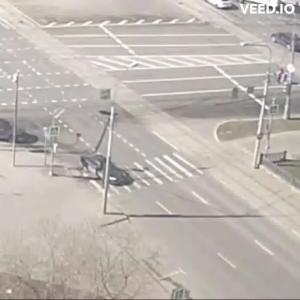car: (82, 155, 132, 188)
